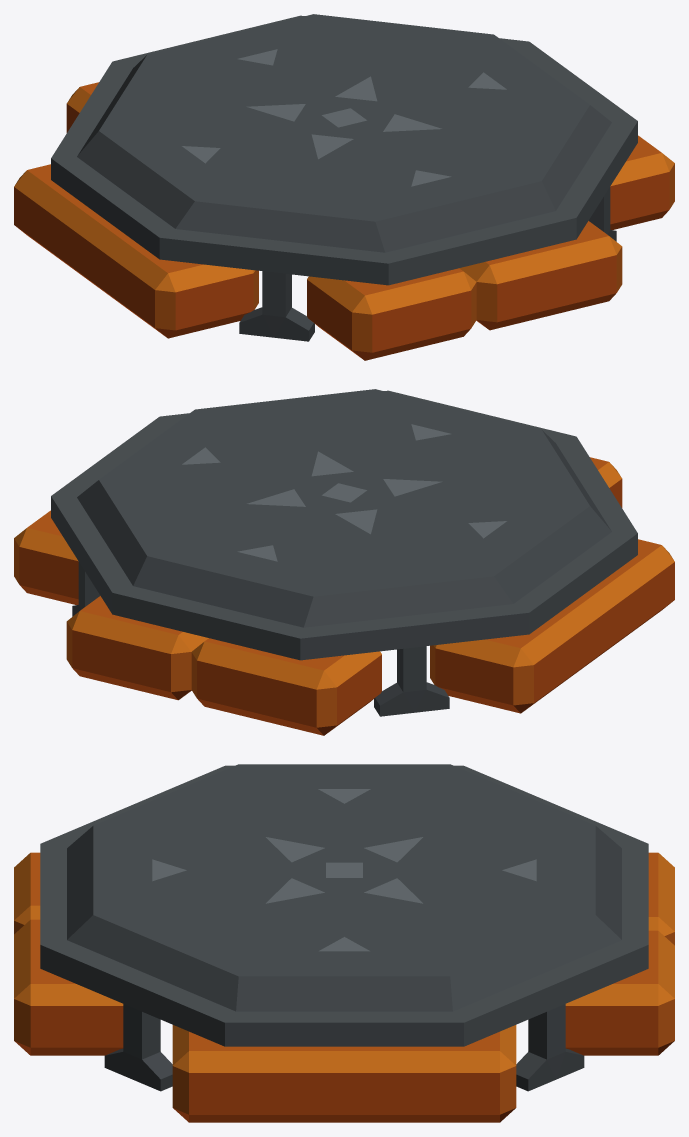
File: kk_landingpad.obj
The picture shows the model from 3 angles, top to bottom: view 1: azimuth 30°, elevation 25°; view 2: azimuth 150°, elevation 25°; view 3: azimuth 270°, elevation 25°; orthographic projection. The views are drawn at different scales.
Bounding box in the file's own units: 15 × 3 × 15.
